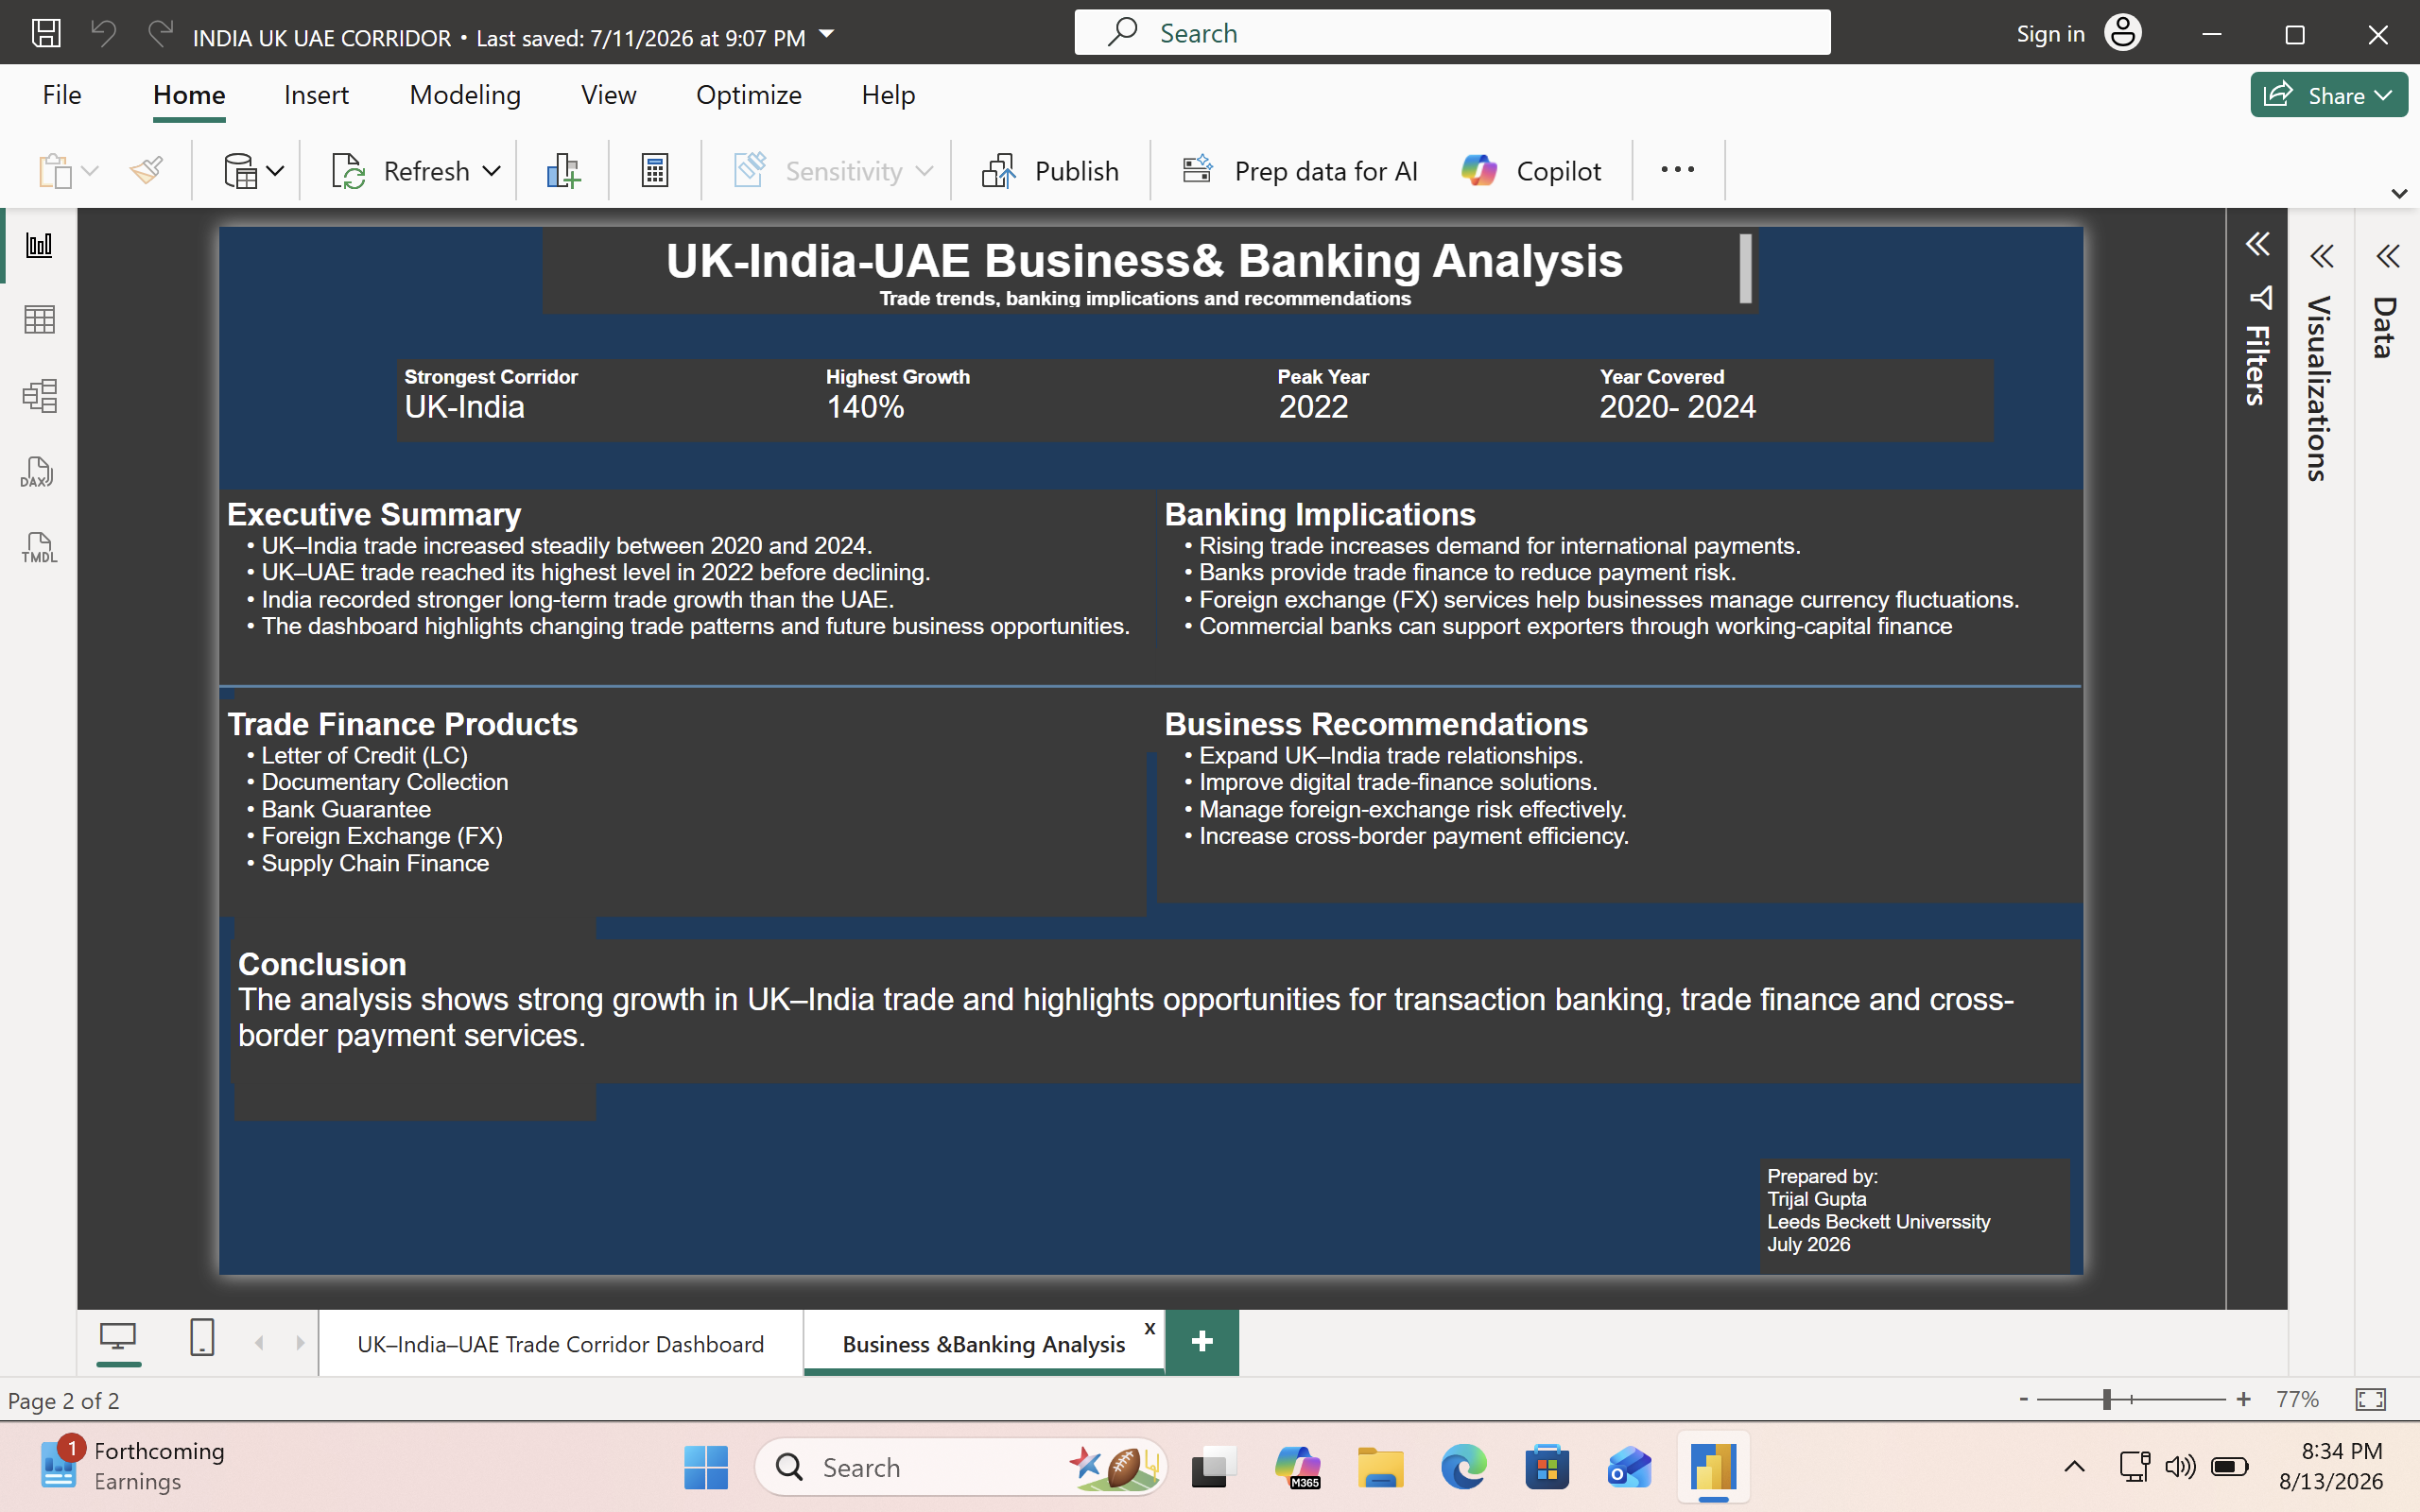

This screenshot's page, from the dashboard's own definition file:
{"tool":"powerbi","page":{"name":"Business &Banking Analysis","canvas":[1280,720],"ordinal":1},"visuals":[{"type":"textbox","box":[121.9,91,1097.1,56.9],"z":0},{"type":"textbox","box":[9.8,289.3,835.4,71.5],"z":1},{"type":"textbox","box":[222.7,0,835.4,60.1],"z":2},{"type":"textbox","box":[9.8,464.8,248.7,149.5],"z":8},{"type":"textbox","box":[0,180.4,643.6,134.9],"z":10},{"type":"textbox","box":[643.6,180.4,637.1,157.7],"z":11},{"type":"textbox","box":[643.6,325.1,637.1,139.8],"z":12},{"type":"textbox","box":[0,325.1,637.1,149.5],"z":13},{"type":"textbox","box":[8.1,489.2,1271,99.1],"z":14},{"type":"shape","box":[0,165.8,1279.1,299.1],"z":15},{"type":"textbox","box":[1058.1,640.4,212.9,79.6],"z":16}]}

Visuals, with their boxes on the page's 1280x720 design canvas (x1, y1, x2, y2). These are canvas units, not pixel positions in the 2420x1512 screenshot, which may show the page scaled, cropped or inside an application window:
textbox: Rect(122, 91, 1219, 148)
textbox: Rect(10, 289, 845, 361)
textbox: Rect(223, 0, 1058, 60)
textbox: Rect(10, 465, 258, 614)
textbox: Rect(0, 180, 644, 315)
textbox: Rect(644, 180, 1281, 338)
textbox: Rect(644, 325, 1281, 465)
textbox: Rect(0, 325, 637, 475)
textbox: Rect(8, 489, 1279, 588)
shape: Rect(0, 166, 1279, 465)
textbox: Rect(1058, 640, 1271, 720)
